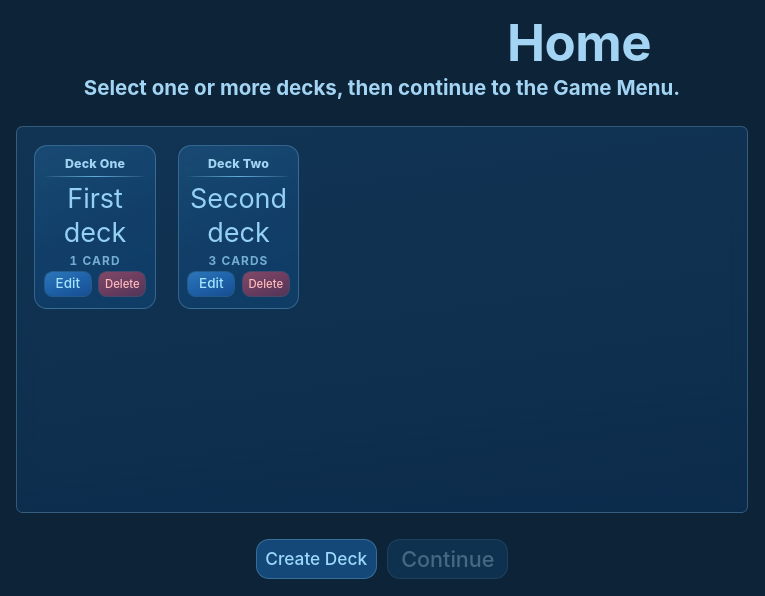
Test: HomePage › Delete removes the deck from the list on success
Click the button "Delete" below "First deck" at {"x": 122, "y": 284}, box [98, 271, 146, 297]
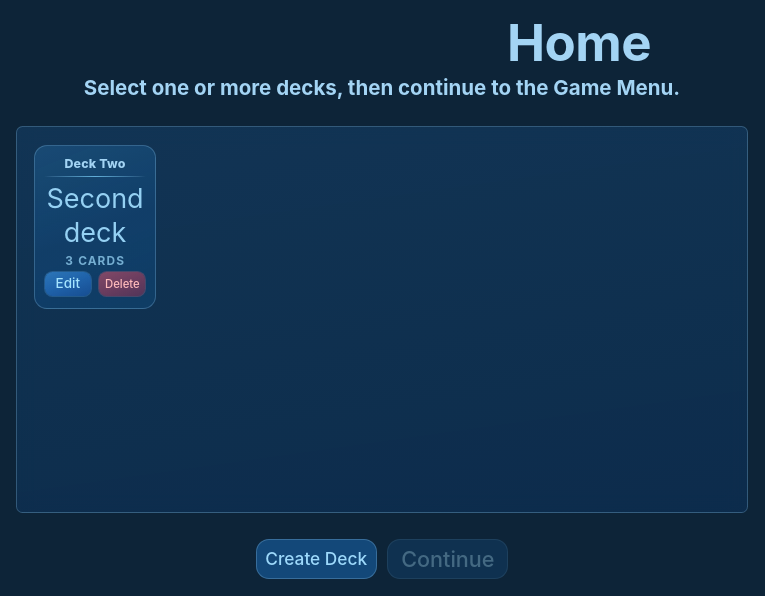
Check: the text "Deck Two" is shown, box [64, 156, 126, 170]
Check: the text "Deck One" is gone
